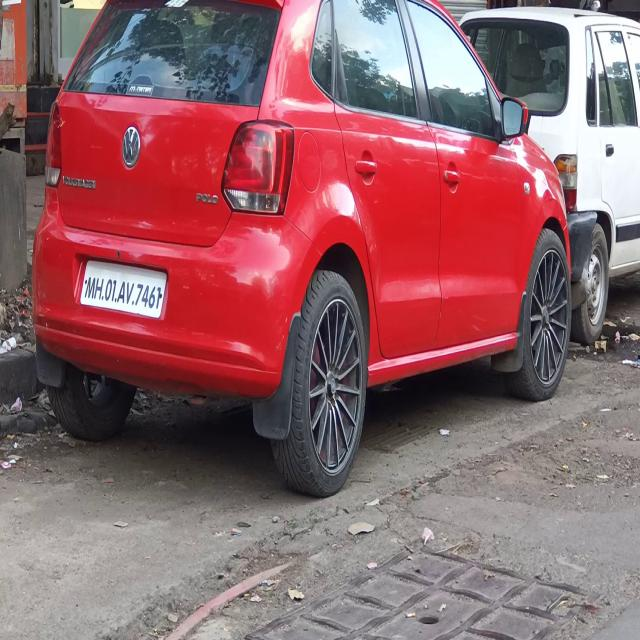license-plate: (79, 258, 165, 317)
